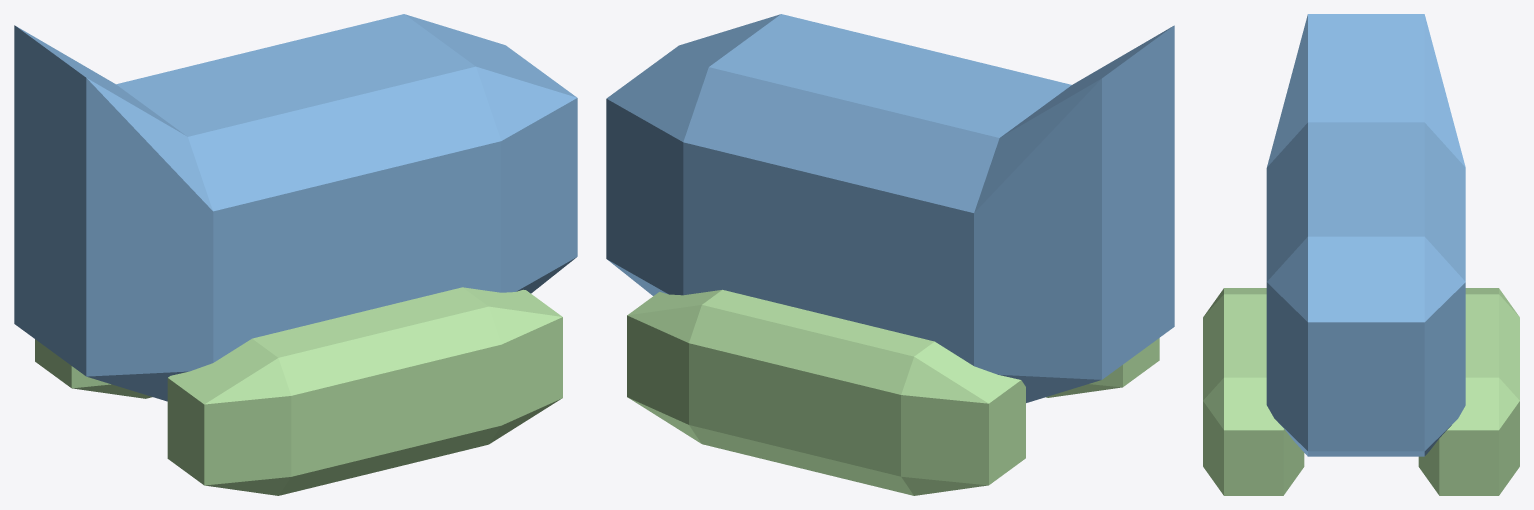
File: test shark 3.glb
3 renders of one model, left to right at view 1: azimuth 30°, elevation 25°; view 2: azimuth 150°, elevation 25°; view 3: azimuth 270°, elevation 25°, orthographic. The views are drawn at different scales.
Visible parts, largest first — view 1: tread; view 2: tread; view 3: tread.
Boxes of the visible parts, x1,y1,x2,y2 form: tread: (14,14,577,495); tread: (606,14,1174,495); tread: (1203,14,1519,495).
Bounding box in the file's own units: 2.9 × 2.34 × 2.
